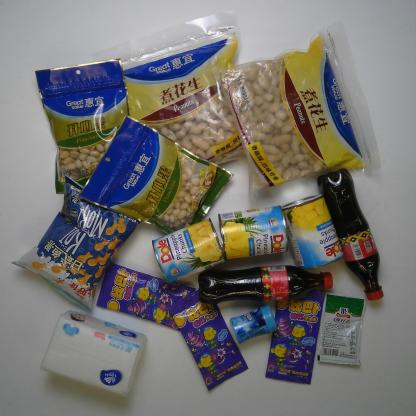Candy: (166, 289, 249, 393), (96, 262, 197, 332), (266, 290, 326, 385)
Canned Food: (151, 216, 227, 286), (280, 192, 344, 272), (216, 203, 289, 262)
Dried Food: (212, 15, 383, 201), (90, 7, 250, 166)
Dried Fruit: (77, 112, 236, 236), (34, 56, 130, 194)
Drink: (316, 167, 384, 302), (197, 263, 334, 306)
Gum: (228, 303, 280, 346)
Puffed Food: (9, 173, 144, 314)
Seasoner: (317, 290, 366, 368)
Tissue: (40, 309, 151, 399)
